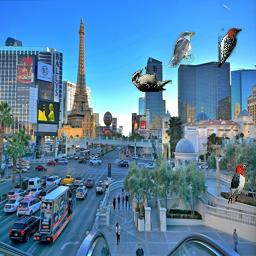Cuckoo: (164, 31, 195, 68)
Woodpecker: (132, 66, 172, 92), (218, 28, 242, 68), (228, 164, 248, 204)
